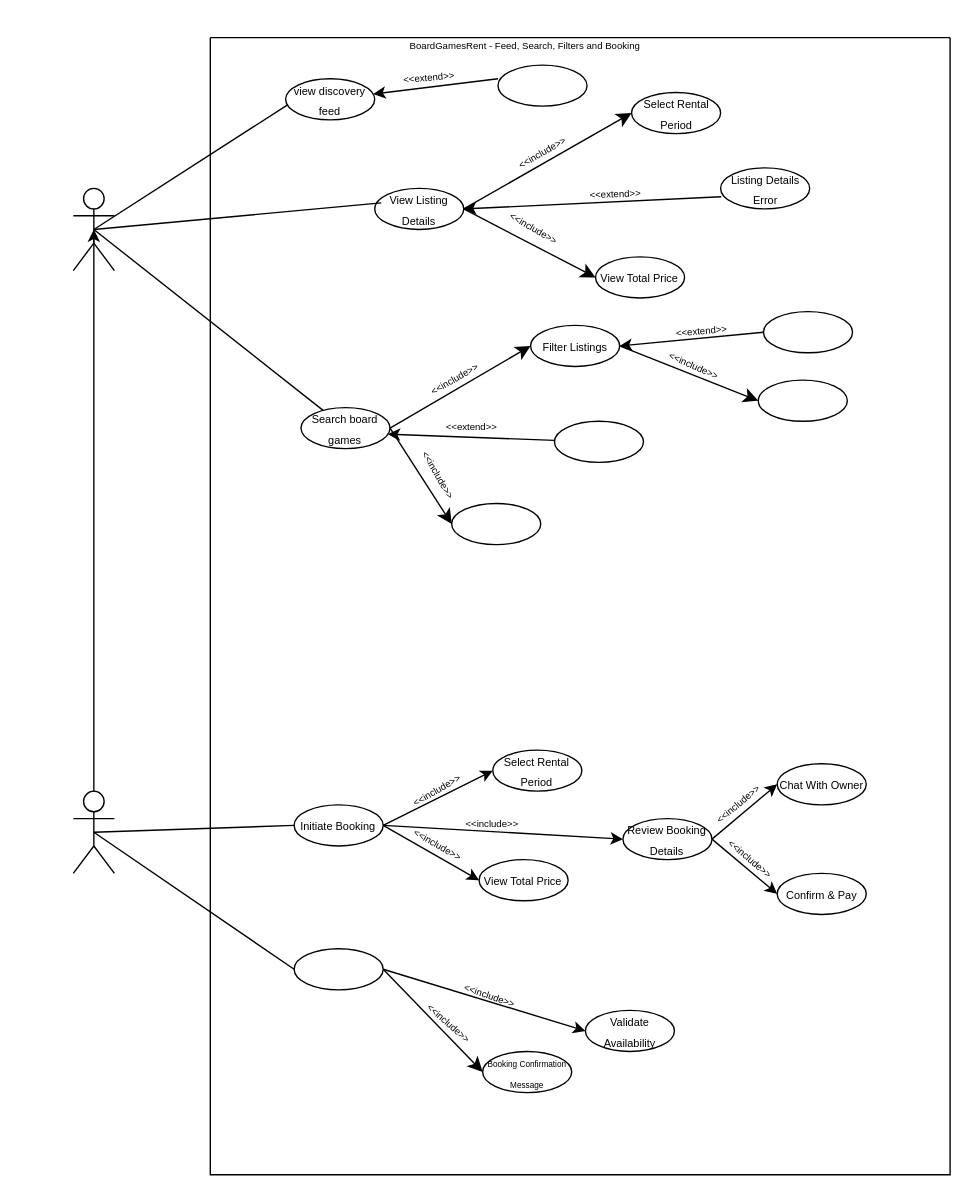
The diagram is 974 pixels wide and 1199 high, and some of its shapes have lost their labels. The centre of each missing label's shape, as x and y in pixels:
"Apply filters" goes at (x=802, y=400).
"Authenticated User" goes at (x=93, y=831).
"Confirm Booking" goes at (x=338, y=968).
"No Filter Results" goes at (x=807, y=331).
"No listings available" goes at (x=542, y=85).
"No Search Results" goes at (x=598, y=441).
"Sort Listings" goes at (x=495, y=523).
"User" goes at (x=93, y=229).
